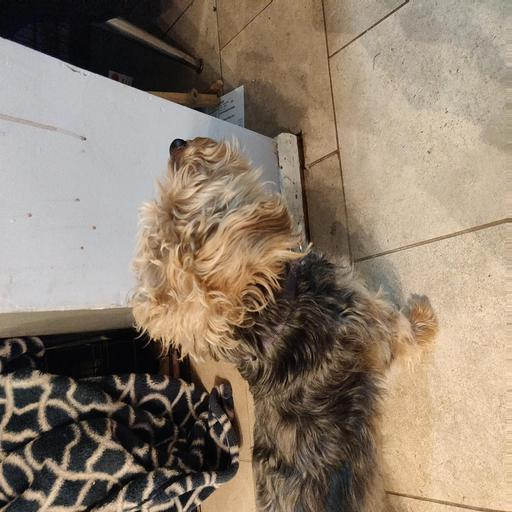dog: (112, 130, 381, 399)
